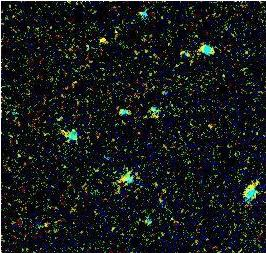star: (88, 24, 118, 54)
